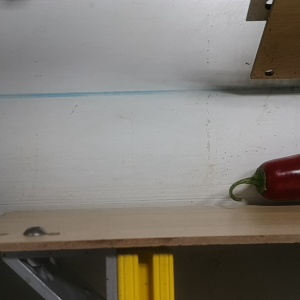Cut Point: (248, 158, 278, 200)
